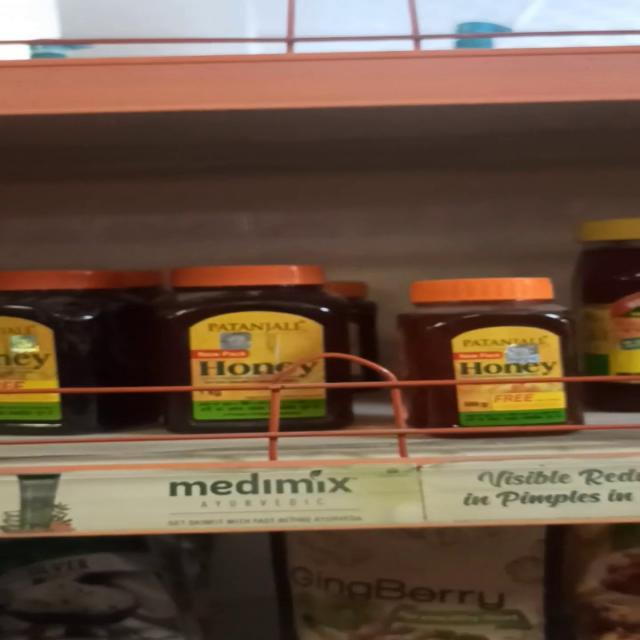Patanjali Honey: (166, 260, 350, 432), (397, 274, 572, 438)
